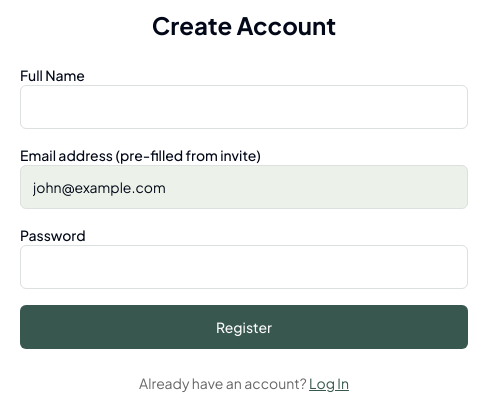
Test: RegistrationForm › edge cases › disables submit button while submitting
In the field labelled "Full Name": (244, 107) [20, 85, 468, 129], type "John Doe"
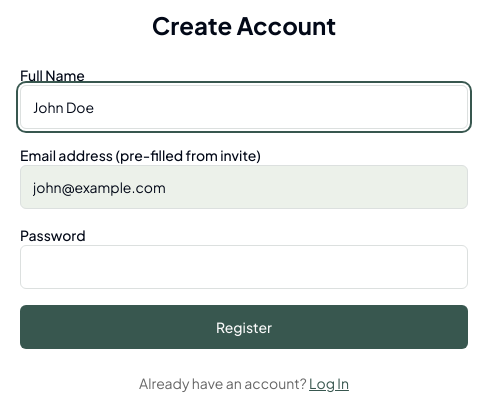
In the password field labelled "Password": (244, 267) [20, 245, 468, 289], type "password123"
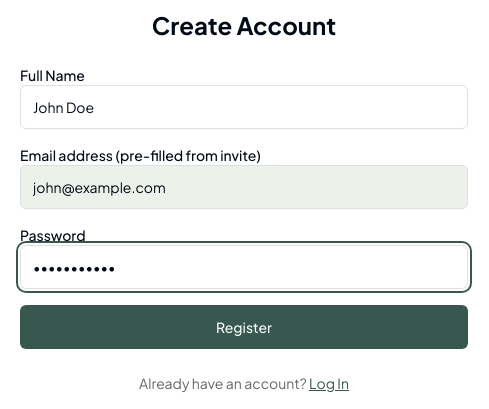
Click the button "Register": click(244, 327) [20, 305, 468, 349]
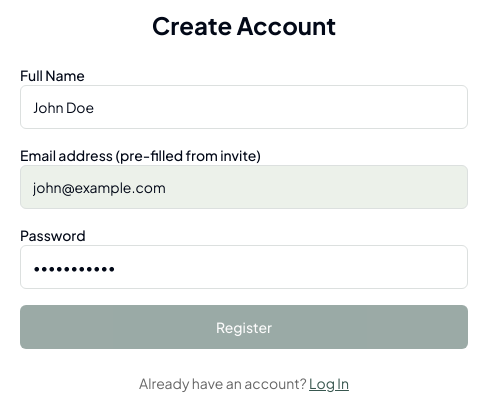
Check: the button "Register" is disabled, box [20, 305, 468, 349]
